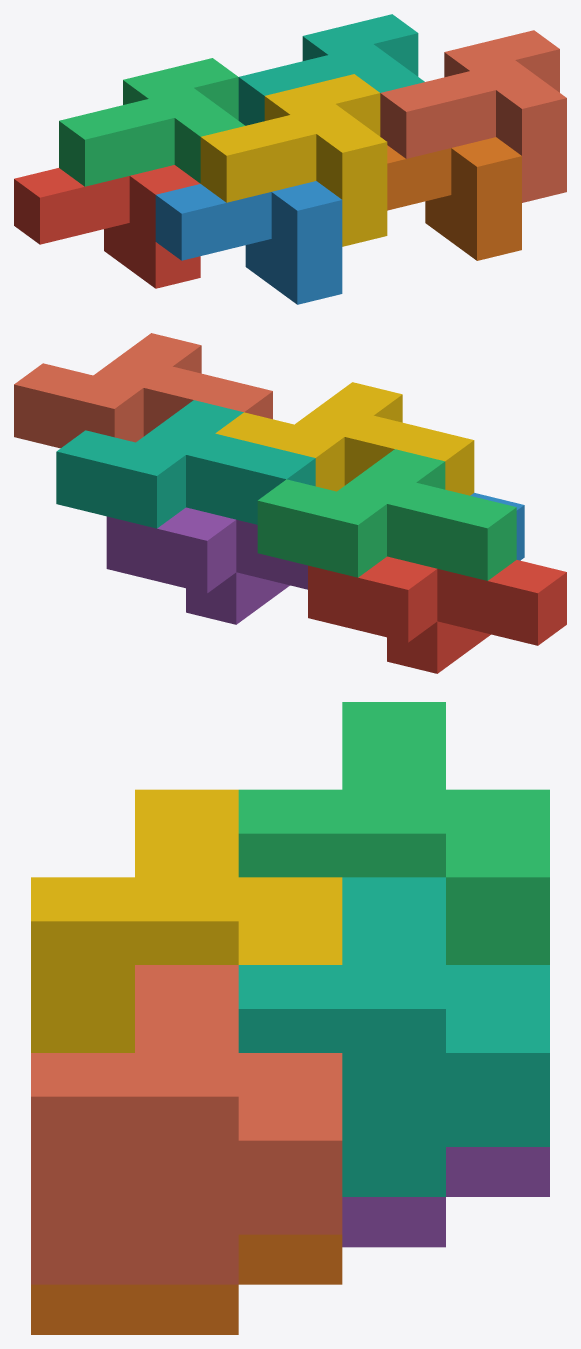
File: tiling.obj
3 renders of one model, top to bottom at view 1: azimuth 30°, elevation 25°; view 2: azimuth 150°, elevation 25°; view 3: azimuth 270°, elevation 25°, orthographic. The views are drawn at different scales.
Parts seen in each view (by area): view 1: copy_1_domain_4, copy_1_domain_8, copy_1_domain_2, copy_1_domain_3, copy_1_domain_1, copy_1_domain_6, copy_1_domain_7; view 2: copy_1_domain_3, copy_1_domain_7, copy_1_domain_1, copy_1_domain_8, copy_1_domain_5, copy_1_domain_4, copy_1_domain_2; view 3: copy_1_domain_8, copy_1_domain_7, copy_1_domain_3, copy_1_domain_4, copy_1_domain_6, copy_1_domain_5.
Part boxes in pixels (bbox=[...]): copy_1_domain_4: bbox=[200, 74, 387, 246]; copy_1_domain_8: bbox=[380, 30, 566, 202]; copy_1_domain_2: bbox=[155, 181, 342, 304]; copy_1_domain_3: bbox=[59, 58, 245, 186]; copy_1_domain_1: bbox=[14, 165, 200, 288]; copy_1_domain_6: bbox=[387, 137, 521, 260]; copy_1_domain_7: bbox=[238, 14, 424, 125]; copy_1_domain_3: bbox=[257, 449, 516, 580]; copy_1_domain_7: bbox=[56, 400, 315, 528]; copy_1_domain_1: bbox=[308, 556, 566, 673]; copy_1_domain_8: bbox=[14, 333, 272, 448]; copy_1_domain_5: bbox=[106, 507, 307, 624]; copy_1_domain_4: bbox=[215, 382, 474, 495]; copy_1_domain_2: bbox=[470, 492, 524, 560]; copy_1_domain_8: bbox=[31, 965, 342, 1284]; copy_1_domain_7: bbox=[238, 877, 549, 1196]; copy_1_domain_3: bbox=[238, 702, 549, 964]; copy_1_domain_4: bbox=[31, 789, 342, 1052]; copy_1_domain_6: bbox=[31, 1234, 342, 1334]; copy_1_domain_5: bbox=[342, 1147, 549, 1247].
Bounding box in the file's own units: 11 × 3 × 5.
